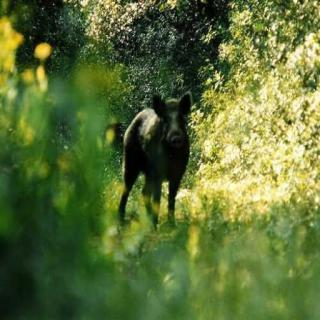Pig: (100, 101, 216, 239)
